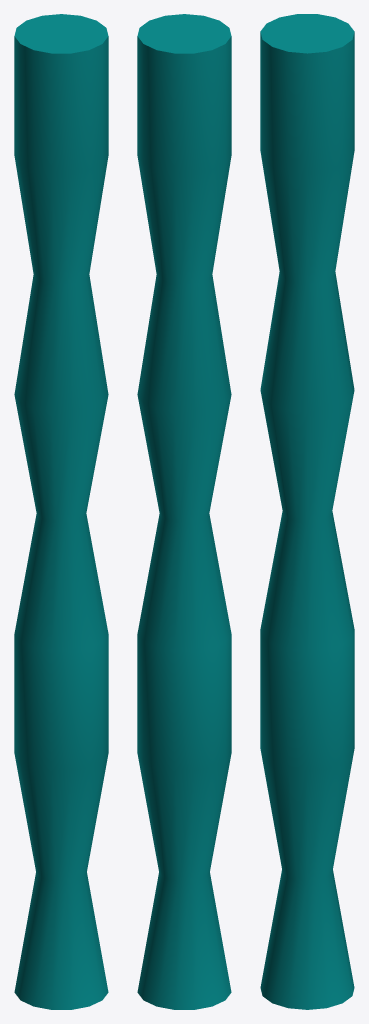
The model's file is 3D_DAKPAAL_001.FBX.
3 views of the same model, side by side, from view 1: azimuth 90°, elevation 25°; view 2: azimuth 210°, elevation 25°; view 3: azimuth 270°, elevation 25° (orthographic).
Visible parts, largest first — view 1: 3D_DAKPAAL_001; view 2: 3D_DAKPAAL_001; view 3: 3D_DAKPAAL_001.
Part boxes in pixels (box(x1,y1,x2,y2)): 3D_DAKPAAL_001: box(14, 14, 108, 1009); 3D_DAKPAAL_001: box(137, 14, 231, 1009); 3D_DAKPAAL_001: box(260, 14, 354, 1009).
Size of the model in its own units: 31.67 by 357 by 31.84.
